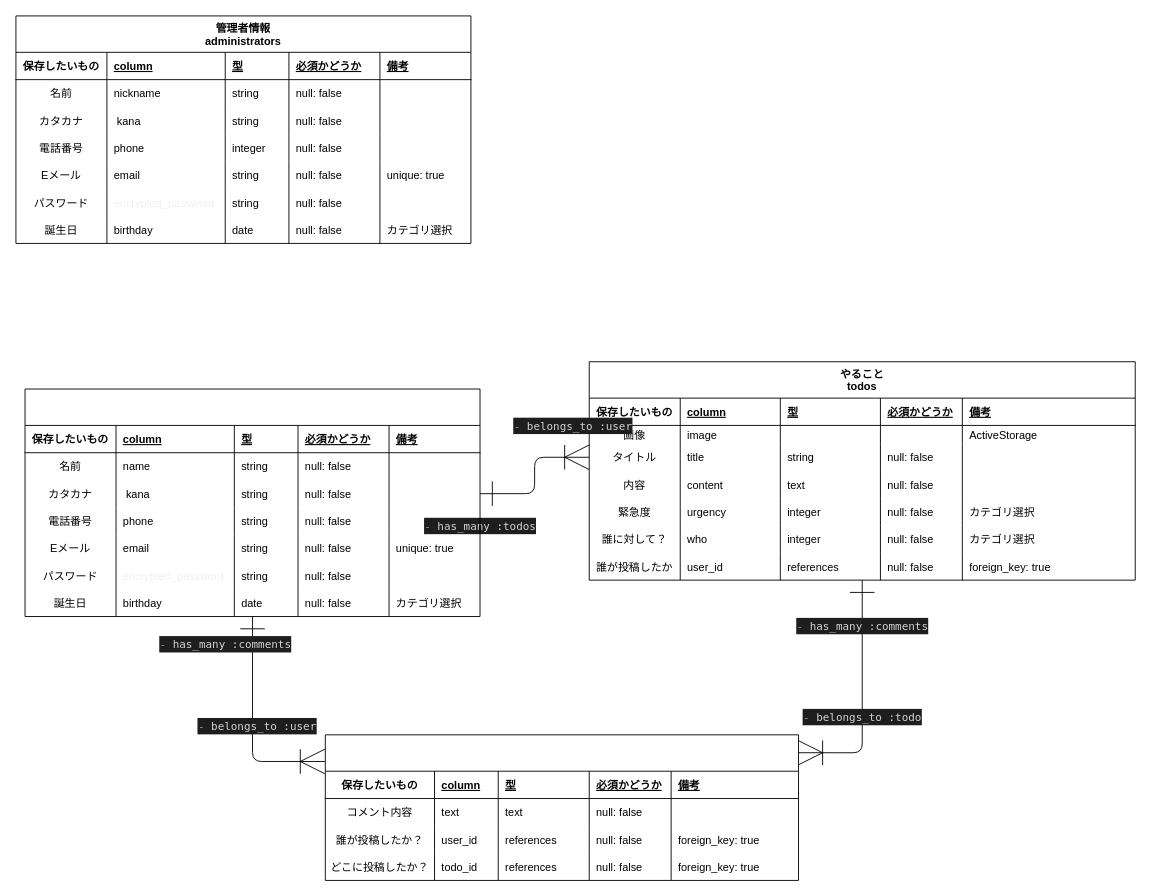
Image size: 1151x896. Some labels were removed from this diagram. The shapes that lost their labels are listed below. From the top down, each one's box as (x1, y1, x2, y2) in pixels, then its label:
(24, 388, 480, 617): ユーザー情報 users
(324, 734, 799, 880): コメント comments
